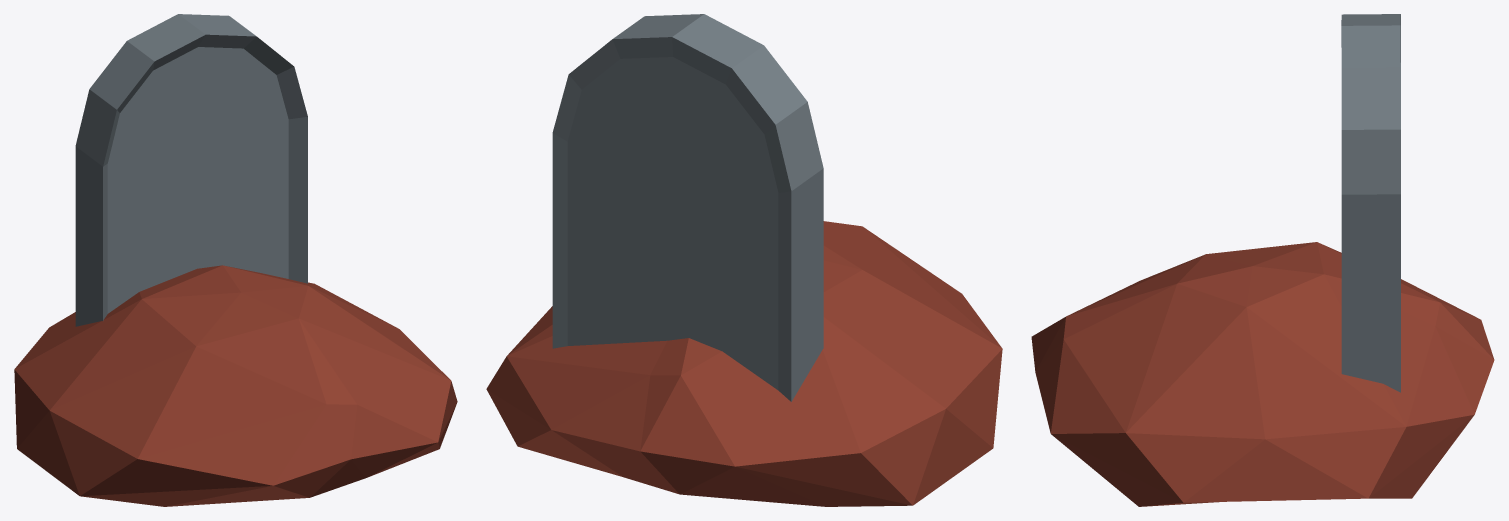
Rendered from C_Lapide1.fbx.
3 views of the same model, side by side, from view 1: azimuth 30°, elevation 25°; view 2: azimuth 150°, elevation 25°; view 3: azimuth 270°, elevation 25° (orthographic). The views are drawn at different scales.
Parts seen in each view (by area): view 1: Cylinder; view 2: Cylinder; view 3: Cylinder.
Boxes of the visible parts, box(x1,y1,x2,y2) form: Cylinder: box(14, 14, 457, 506); Cylinder: box(486, 14, 1002, 506); Cylinder: box(1031, 14, 1494, 506).
Bounding box in the file's own units: 404 × 418 × 413.
